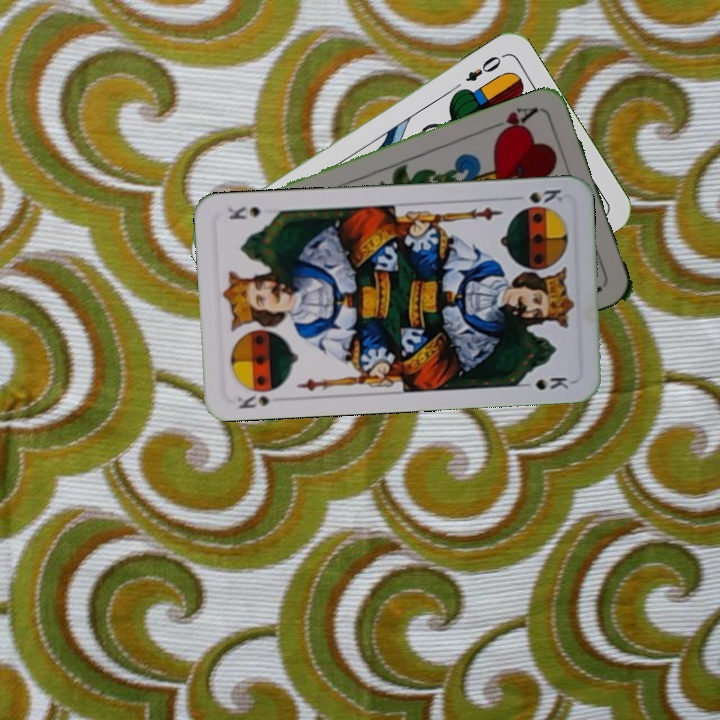EO: (461, 51, 504, 85)
HA: (485, 102, 541, 140)
SK: (508, 185, 567, 206), (233, 390, 272, 412)
